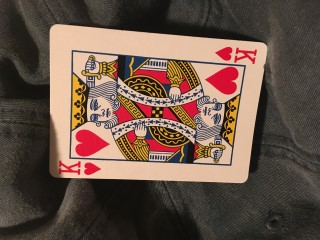KingOfHearts: (49, 24, 268, 183)
